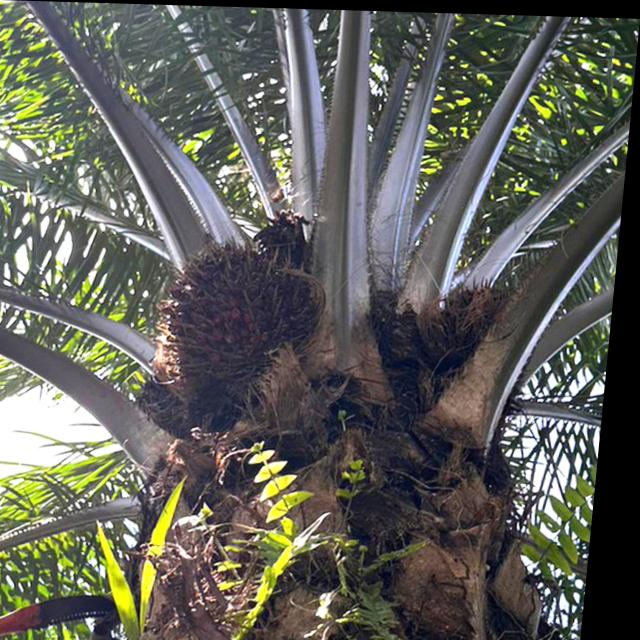ripe: (145, 225, 342, 411)
